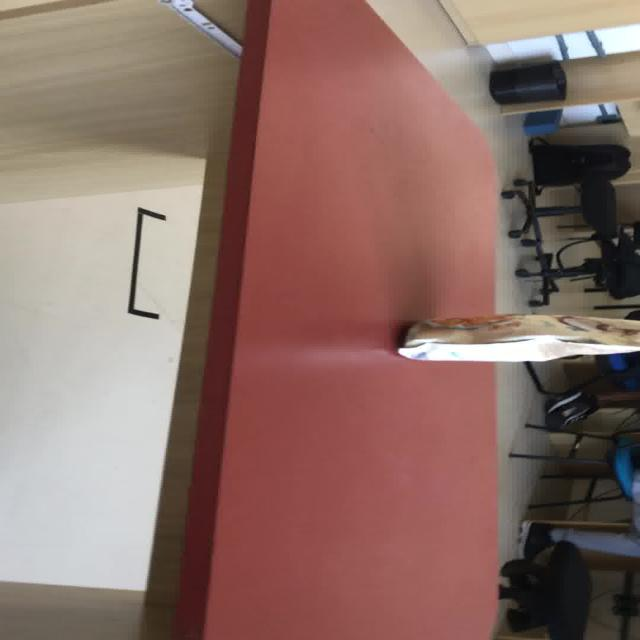corn flakes: (397, 312, 638, 362)
